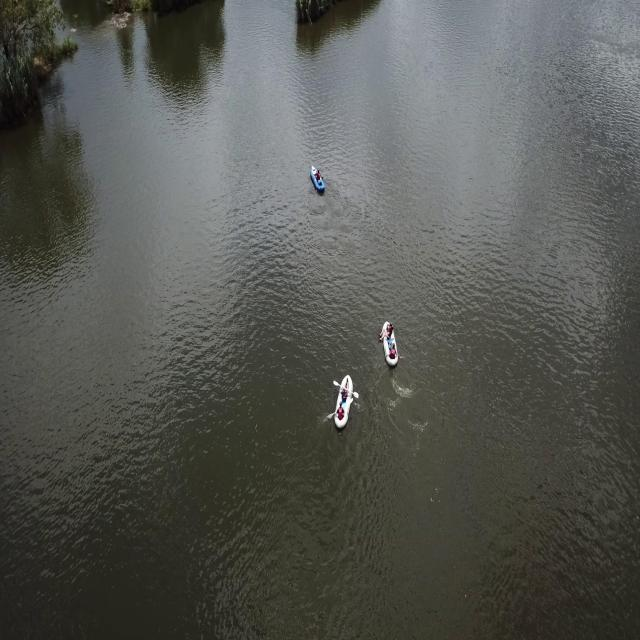kayak: (330, 372, 360, 434), (377, 317, 403, 373), (307, 161, 330, 201)
